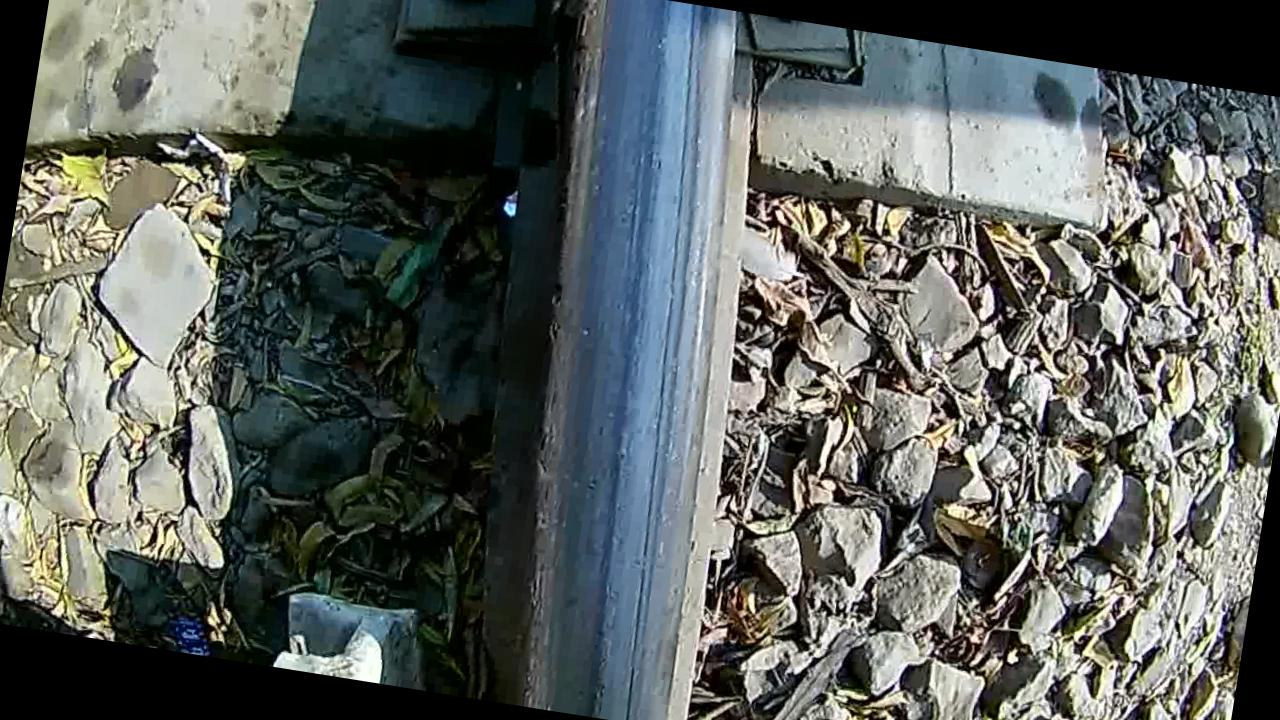clip_missing: (462, 0, 803, 720)
